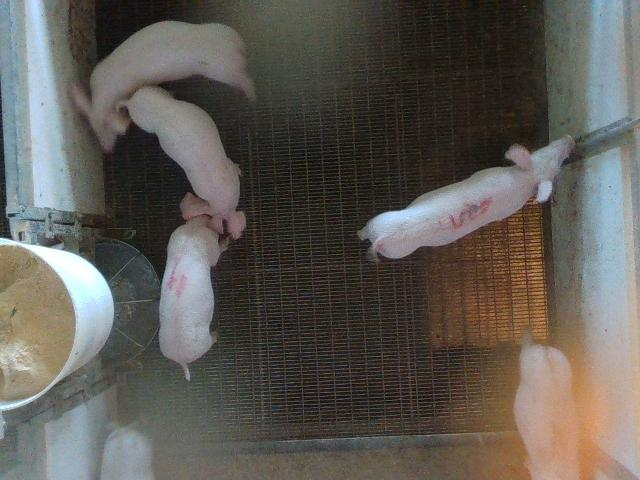pig-1: (514, 345, 579, 479)
pig-3: (358, 135, 575, 258)
pig-4: (159, 215, 222, 379)
